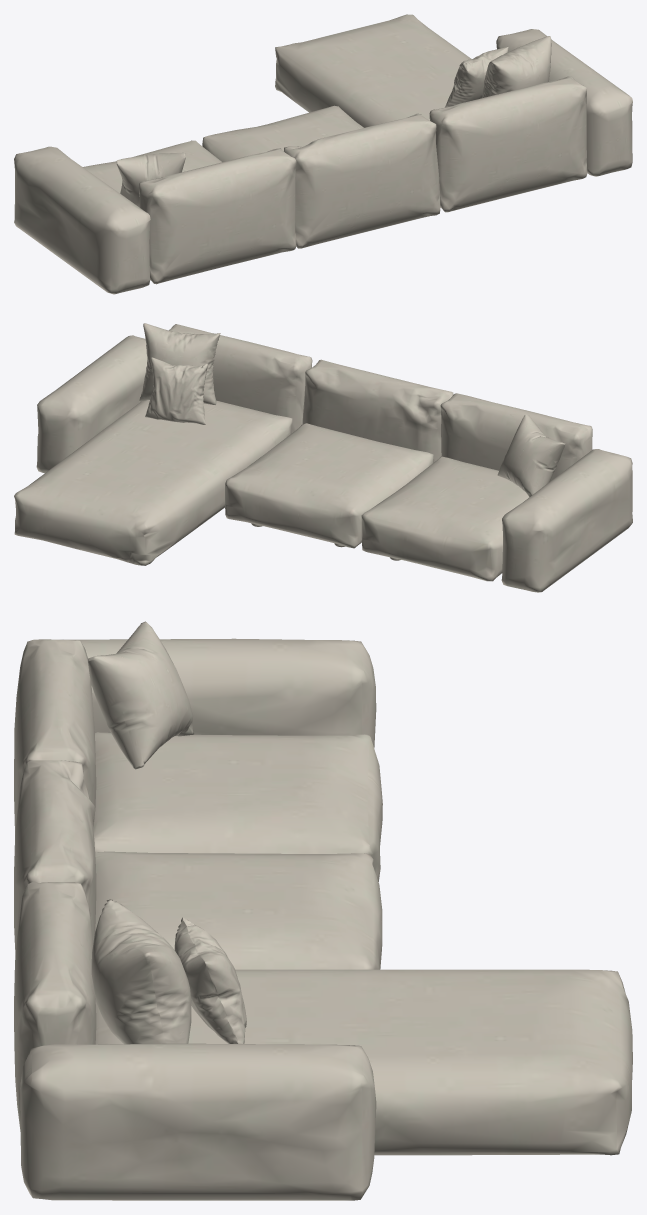
Rendered from Sofa.glb.
3 renders of one model, top to bottom at view 1: azimuth 30°, elevation 25°; view 2: azimuth 150°, elevation 25°; view 3: azimuth 270°, elevation 25°, orthographic. The views are drawn at different scales.
Parts seen in each view (by area): view 1: Sofa; view 2: Sofa; view 3: Sofa.
Part boxes in pixels (x1,y1,x2,y2): Sofa: (14,14,632,294); Sofa: (14,323,632,592); Sofa: (14,621,632,1200).
Bounding box in the file's own units: 3.2 × 0.7226 × 1.86.
1 material, 1 textured.
